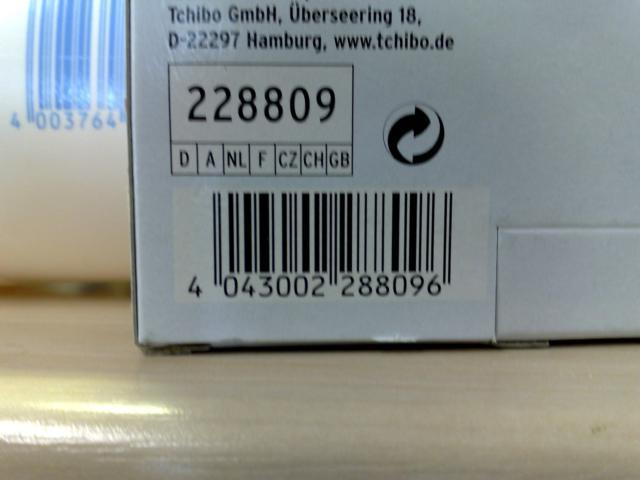Barcode: (174, 189, 488, 300)
